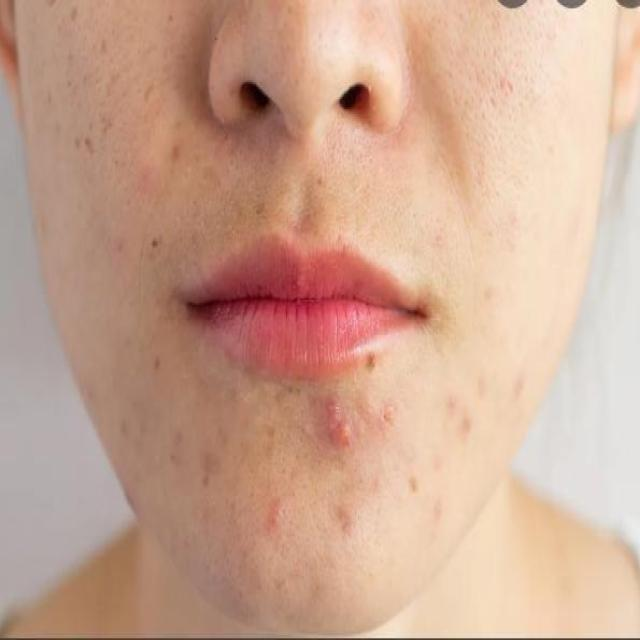crystanlline: (321, 386, 367, 470)
papule: (257, 481, 295, 540)
